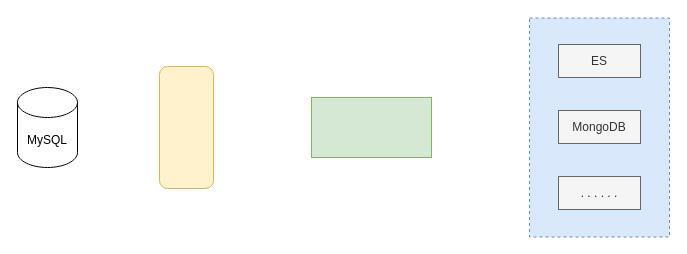
This 687x254 diagram has some shape labels left out. Each missing label, with the centre of its shape:
Canal: (186,127)
MQ: (371,127)
